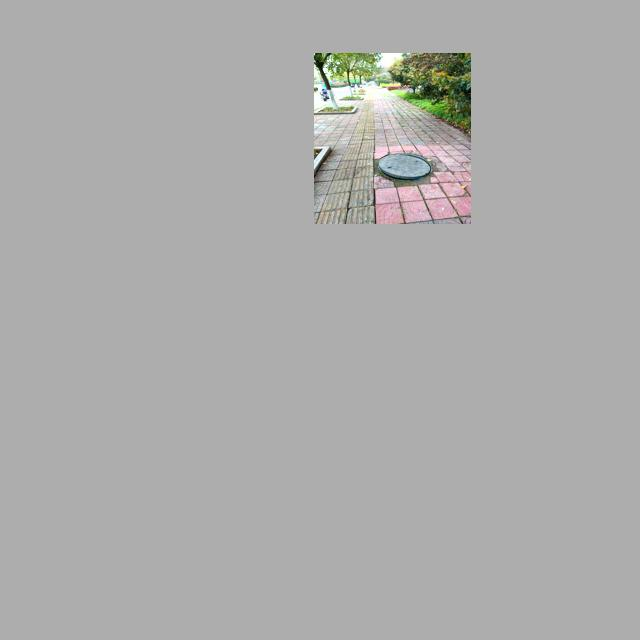uncovered: (374, 152, 443, 182)
